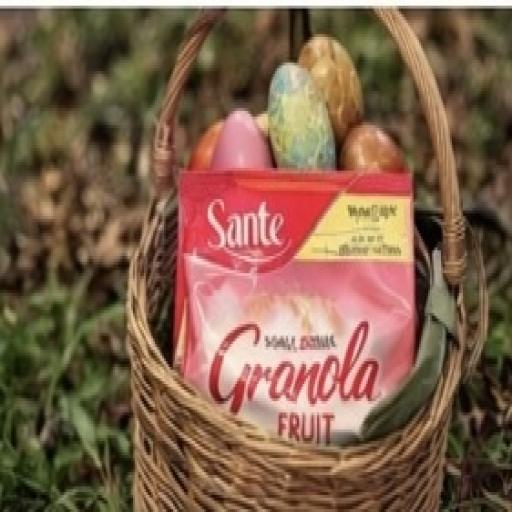granola: (153, 112, 442, 489)
